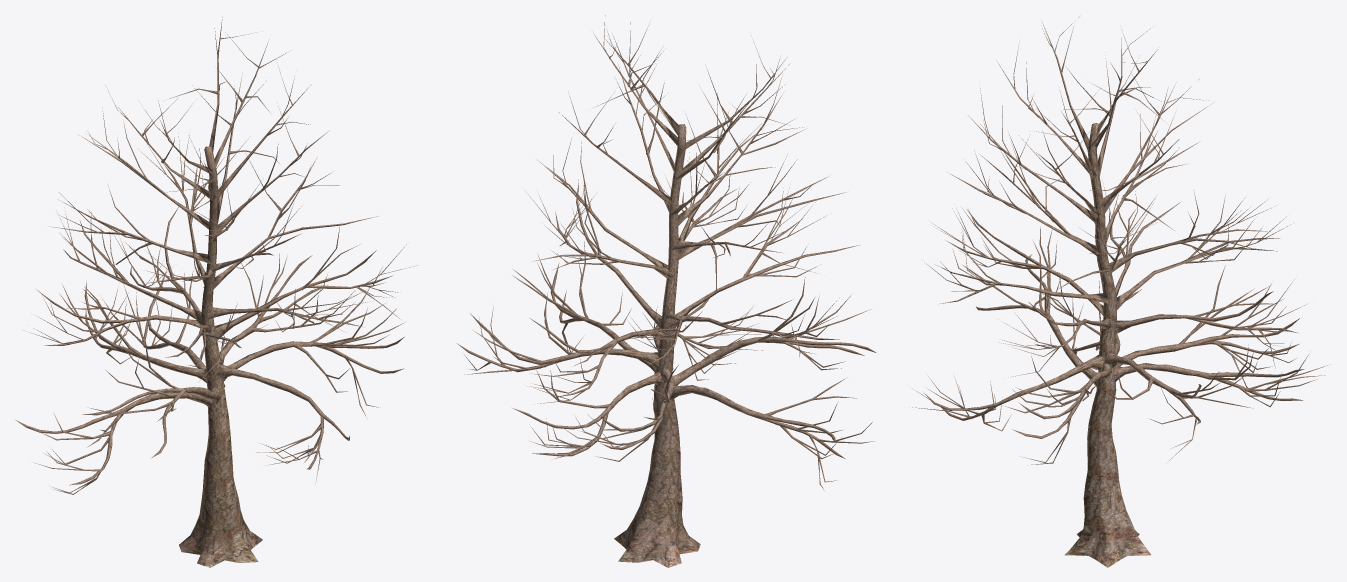
Rendered from Resinwood_Tree_branches.obj.
The picture shows the model from 3 angles, left to right: view 1: azimuth 30°, elevation 25°; view 2: azimuth 150°, elevation 25°; view 3: azimuth 270°, elevation 25°; orthographic projection. The views are drawn at different scales.
Parts seen in each view (by area): view 1: bark02; view 2: bark02; view 3: bark02.
Boxes of the visible parts, x1,y1,x2,y2 form: bark02: [15, 17, 417, 567]; bark02: [456, 15, 876, 567]; bark02: [912, 16, 1327, 567].
Bounding box in the file's own units: 46.31 × 64.41 × 46.63.
Materials: 2 (1 with a texture image).
